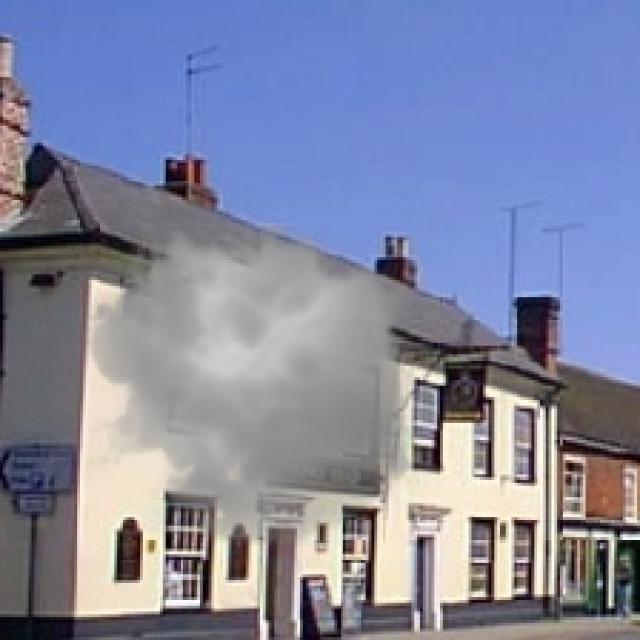smoke: (74, 209, 429, 557)
